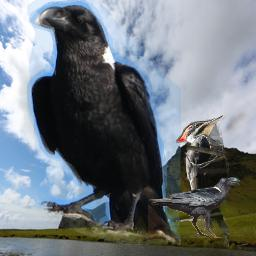Crow: (27, 0, 181, 245), (148, 176, 240, 238)
Woodpecker: (176, 115, 229, 250)
